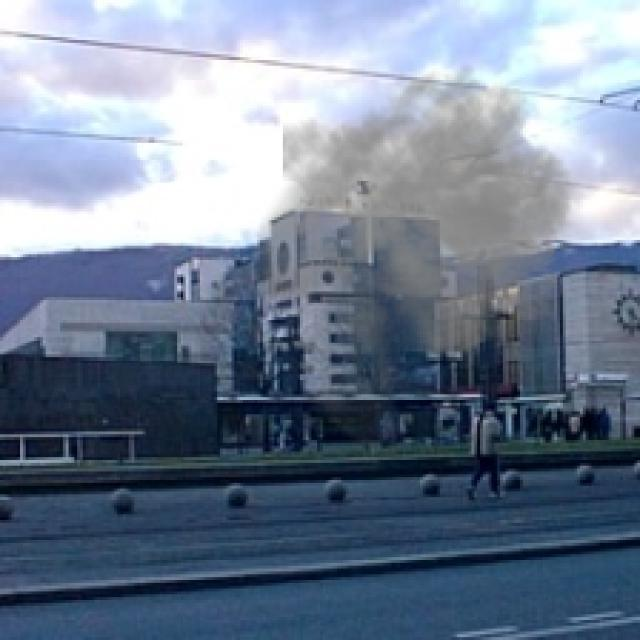Smoke: (240, 62, 597, 458)
